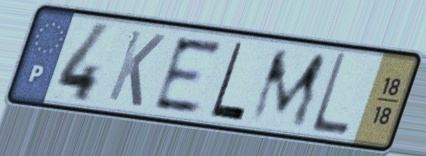4: (53, 20, 116, 105)
E: (151, 35, 226, 115)
K: (104, 27, 169, 111)
L: (307, 50, 352, 139), (206, 39, 248, 125)
M: (246, 47, 331, 130)
